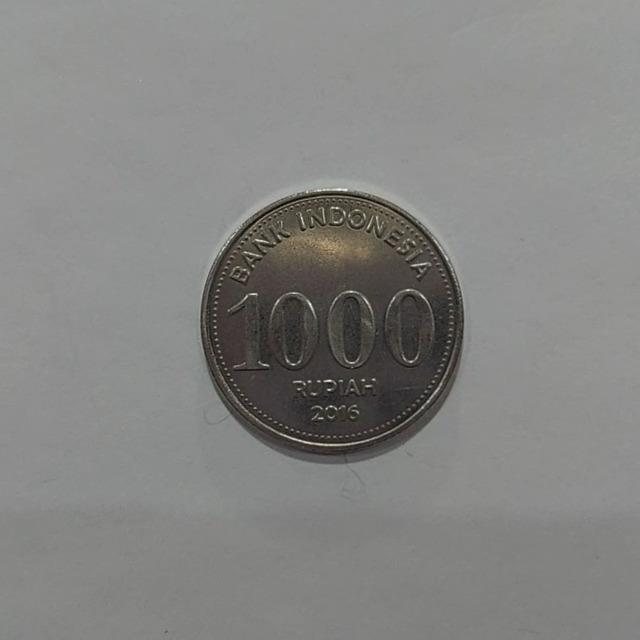Rp100: (198, 186, 465, 463)
